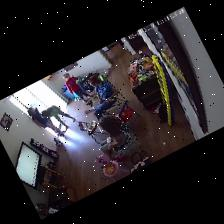person: (85, 76, 118, 118), (99, 116, 127, 160), (28, 107, 64, 136), (63, 74, 92, 103), (42, 105, 75, 129)
